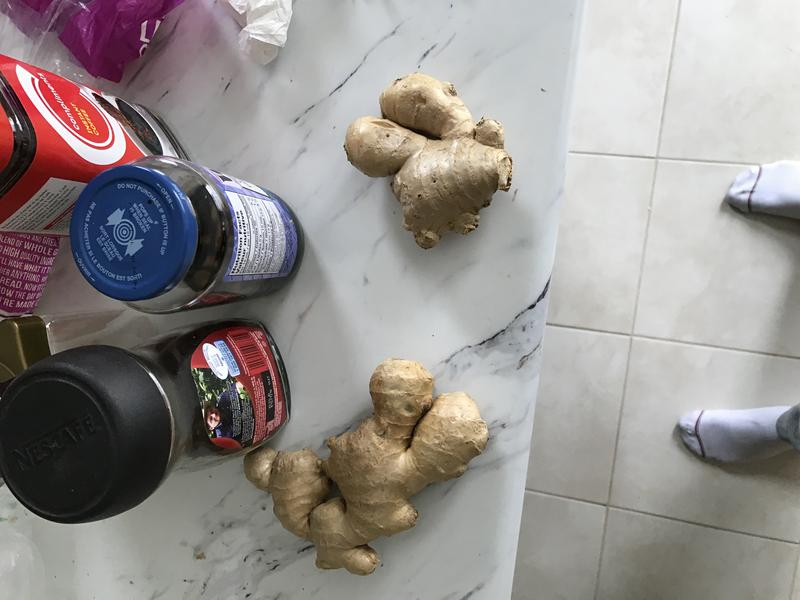ginger: (236, 350, 497, 591), (341, 66, 518, 255)
